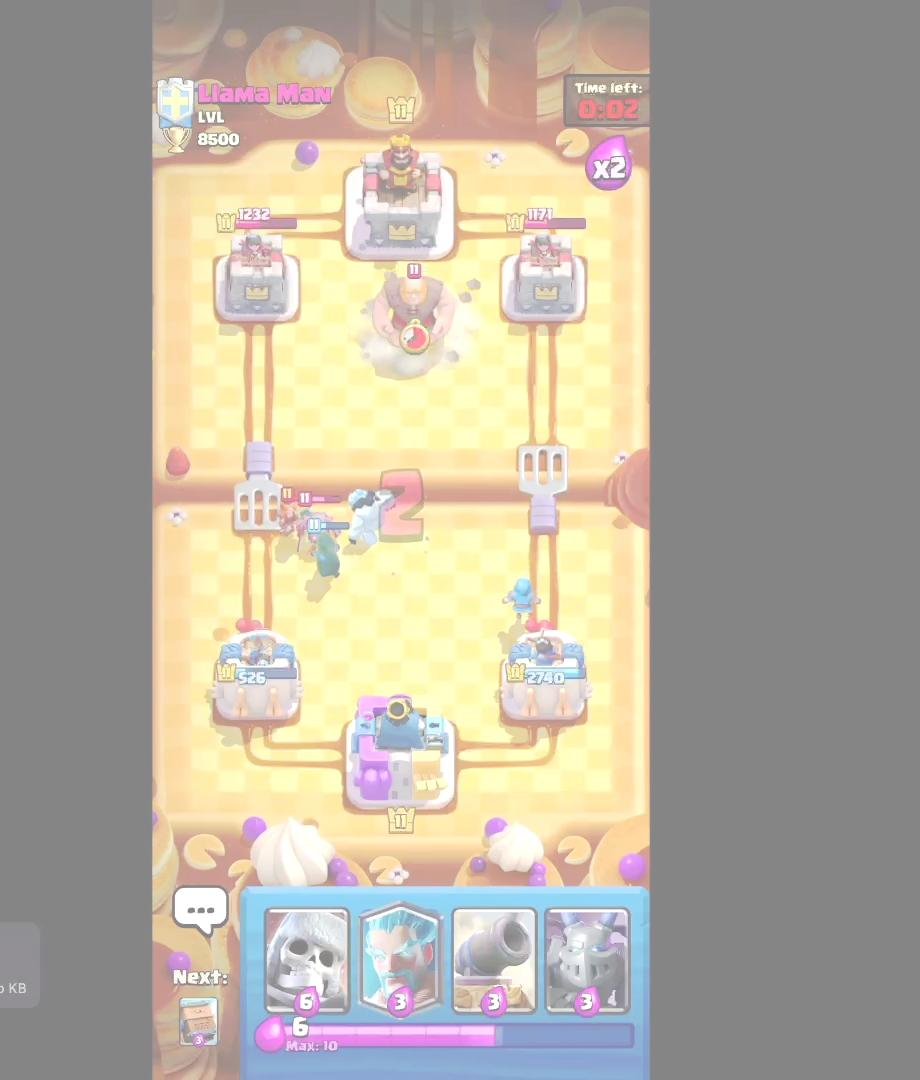Giant: (366, 265, 463, 355)
Mini Pekka: (298, 490, 339, 555)
Valkyrie: (279, 485, 298, 535)
